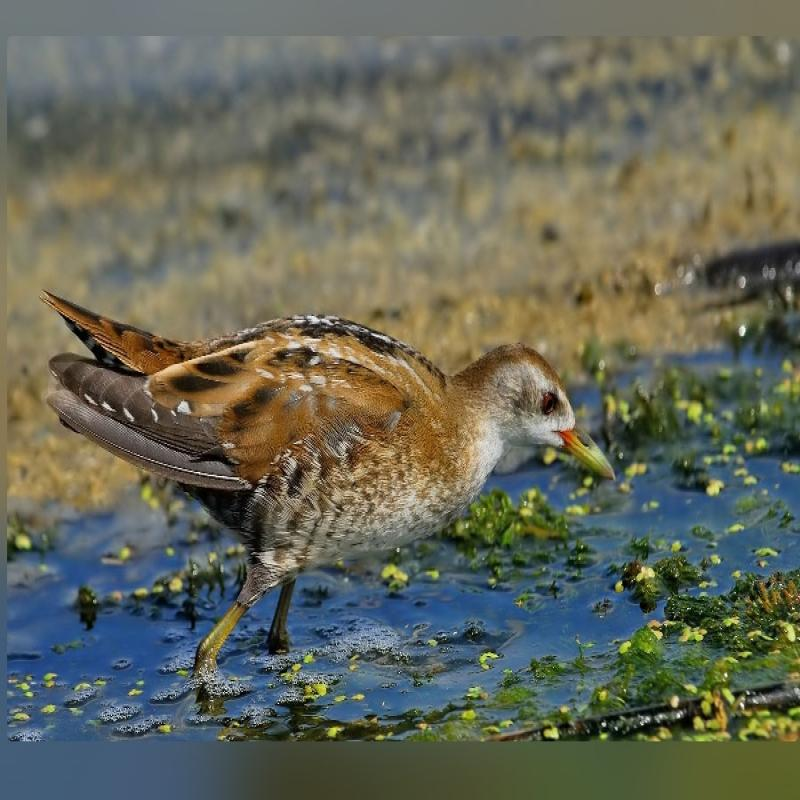little crake: (38, 280, 625, 608)
